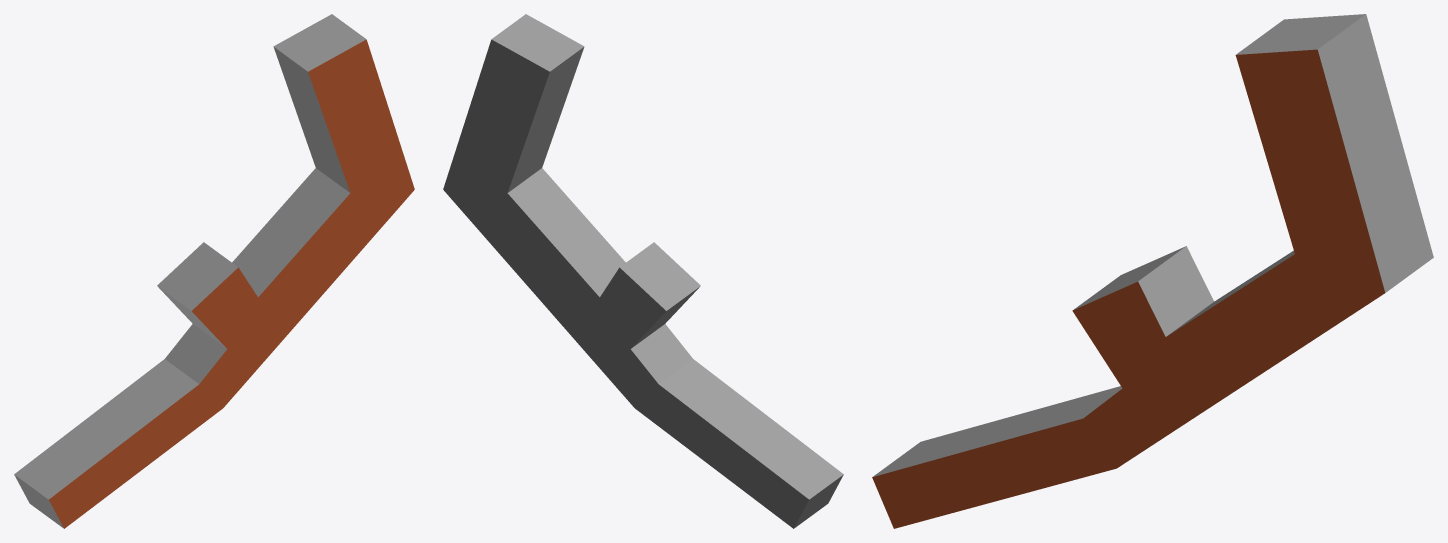
The model's file is construction_5234_assumed_A_Casa_h6m.obj.
3 renders of one model, left to right at view 1: azimuth 30°, elevation 25°; view 2: azimuth 150°, elevation 25°; view 3: azimuth 330°, elevation 25°, orthographic. The views are drawn at different scales.
Visible parts, largest first — view 1: construction_5234_assumed_A_Casa; view 2: construction_5234_assumed_A_Casa; view 3: construction_5234_assumed_A_Casa.
Part boxes in pixels (x1,y1,x2,y2): construction_5234_assumed_A_Casa: (14,14,414,528); construction_5234_assumed_A_Casa: (443,14,843,528); construction_5234_assumed_A_Casa: (872,14,1433,528).
Bounding box in the file's own units: 36.63 × 39.75 × 6.
